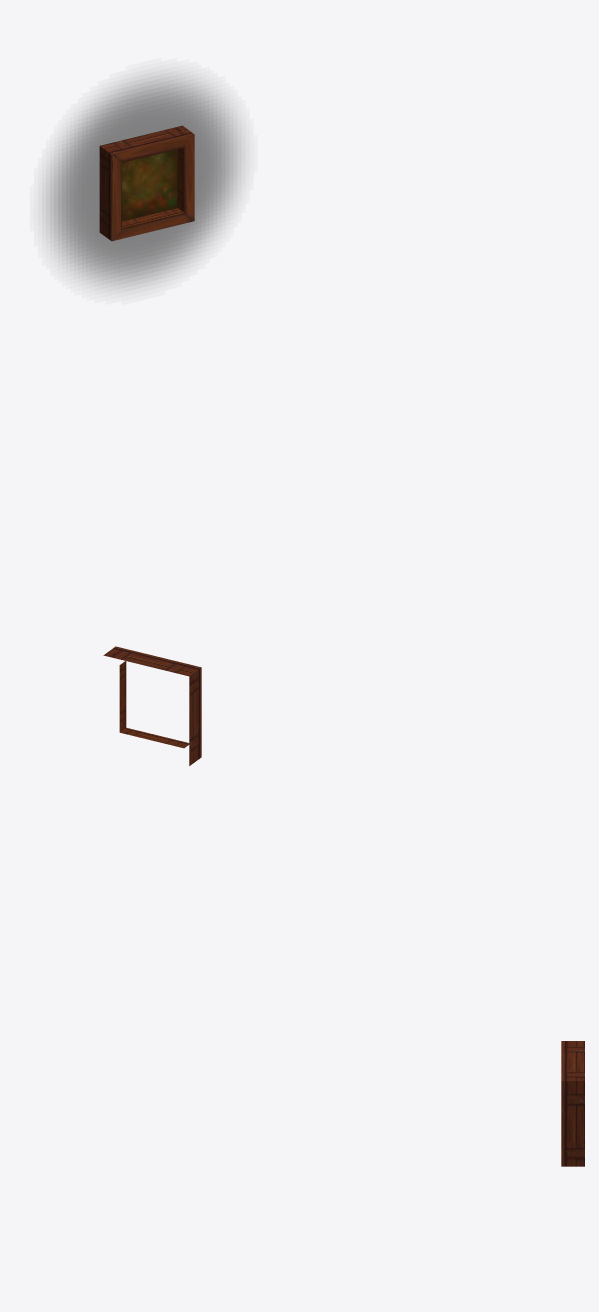
Rendered from prop_tree_small_woodbox_ur.glb.
3 renders of one model, top to bottom at view 1: azimuth 30°, elevation 25°; view 2: azimuth 150°, elevation 25°; view 3: azimuth 270°, elevation 25°, orthographic. The views are drawn at different scales.
Parts seen in each view (by area): view 1: shadow_small_woodbox_ur, tree_planter_box3_3; view 2: tree_planter_box3_3; view 3: tree_planter_box3_3.
Boxes of the visible parts, left/top/right/bottom form: shadow_small_woodbox_ur: left=46, top=75, right=241, bottom=288; tree_planter_box3_3: left=99, top=125, right=194, bottom=241; tree_planter_box3_3: left=103, top=646, right=201, bottom=765; tree_planter_box3_3: left=561, top=1041, right=584, bottom=1166.
Size of the model in its own units: 13.93 by 12.32 by 24.15.
4 materials, 4 textured.
